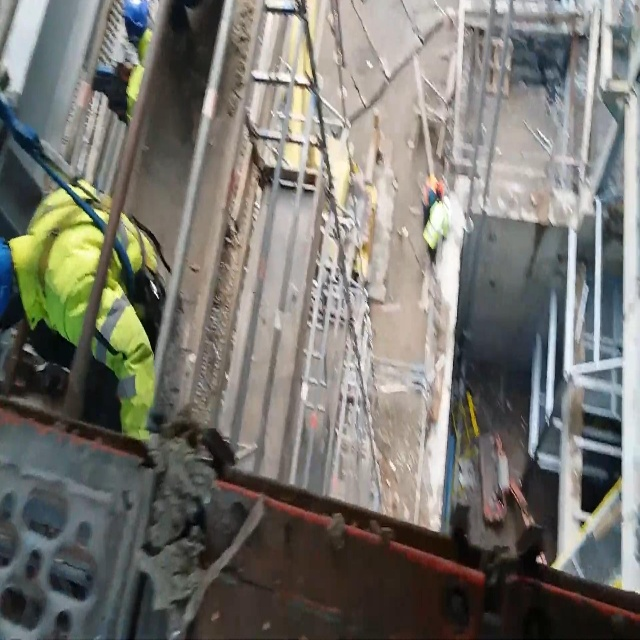Arnes_seguridad: (15, 175, 160, 354)
